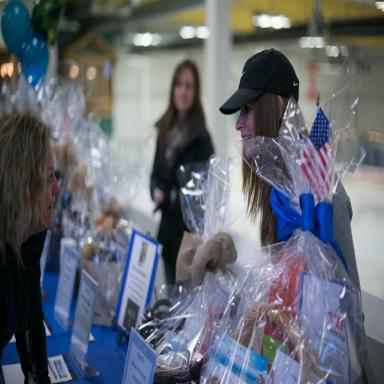clothing: (268, 150, 378, 383), (149, 110, 212, 244), (0, 229, 51, 383)
humanarm: (12, 263, 49, 383), (331, 183, 360, 286), (148, 134, 163, 206)
humanface: (43, 141, 58, 227), (234, 109, 256, 158), (172, 66, 195, 109)
humanhair: (0, 99, 53, 282), (240, 88, 285, 250), (168, 60, 201, 103)
humanhead: (0, 110, 61, 244), (218, 46, 299, 141), (171, 54, 200, 112)
humanmouth: (241, 136, 248, 138)
humannose: (234, 110, 246, 130), (52, 170, 60, 195)
mammal: (219, 45, 374, 380), (0, 77, 63, 369), (146, 54, 216, 293)
plasticbag: (199, 55, 366, 383), (1, 72, 148, 330), (138, 150, 252, 383)
woman: (219, 44, 373, 383), (0, 86, 64, 381), (147, 59, 217, 311)
